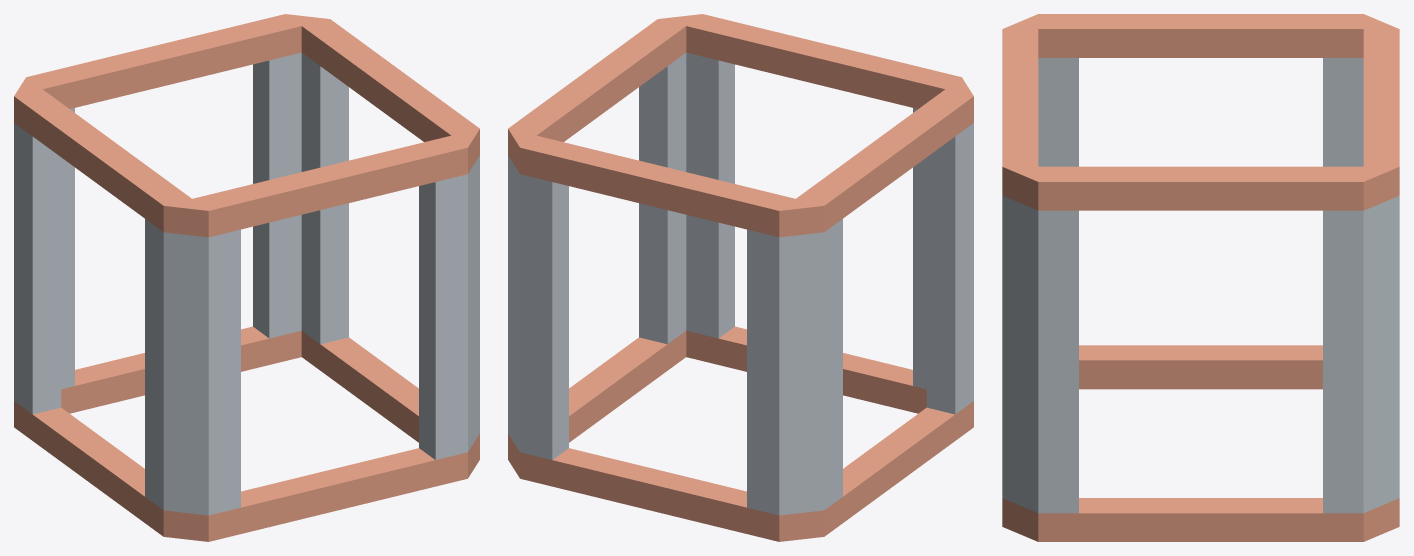
File: metalStructure.fbx
3 views of the same model, side by side, from view 1: azimuth 30°, elevation 25°; view 2: azimuth 150°, elevation 25°; view 3: azimuth 270°, elevation 25° (orthographic). The views are drawn at different scales.
Visible parts, largest first — view 1: metalStructure; view 2: metalStructure; view 3: metalStructure.
Boxes of the visible parts, x1,y1,x2,y2 form: metalStructure: (14,14,479,541); metalStructure: (508,14,973,541); metalStructure: (1002,14,1399,541).
Size of the model in its own units: 1000 by 1000 by 1000.
